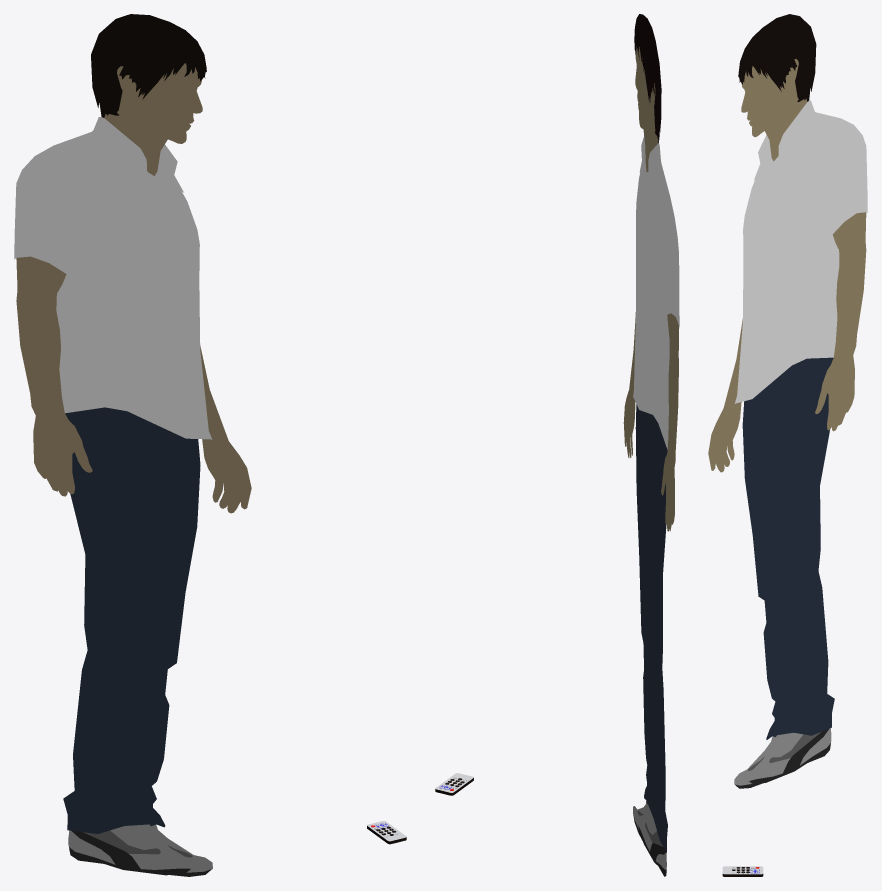
3 renders of one model, left to right at view 1: azimuth 30°, elevation 25°; view 2: azimuth 150°, elevation 25°; view 3: azimuth 270°, elevation 25°, orthographic. The views are drawn at different scales.
Visible parts, largest first — view 1: Mesh1 Sang1 Model; view 2: Mesh1 Sang1 Model, Mesh31 Model; view 3: Mesh1 Sang1 Model, Mesh31 Model.
Boxes of the visible parts, x1,y1,x2,y2 form: Mesh1 Sang1 Model: (14, 14, 251, 876); Mesh1 Sang1 Model: (623, 14, 679, 876); Mesh31 Model: (435, 773, 473, 795); Mesh1 Sang1 Model: (708, 14, 867, 788); Mesh31 Model: (722, 866, 763, 876).
Size of the model in its own units: 26.3 by 69.24 by 13.15.
